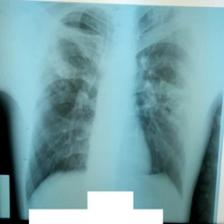tuberculosis: (17, 4, 190, 208)
